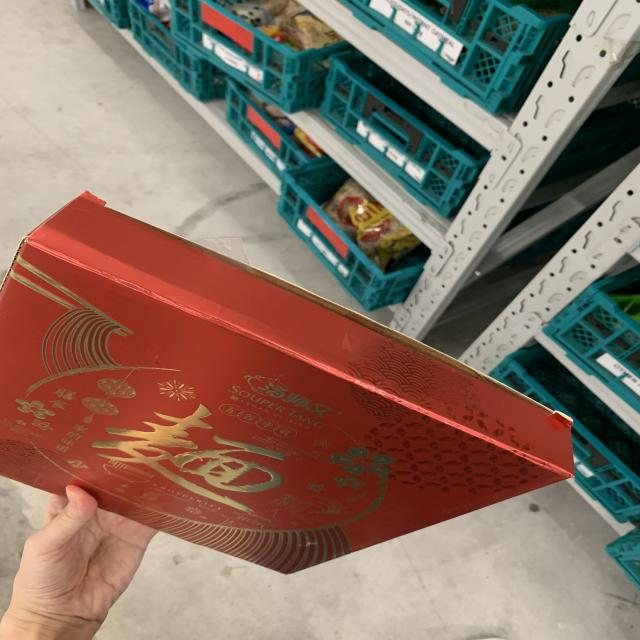object_name: (22, 219, 547, 563)
